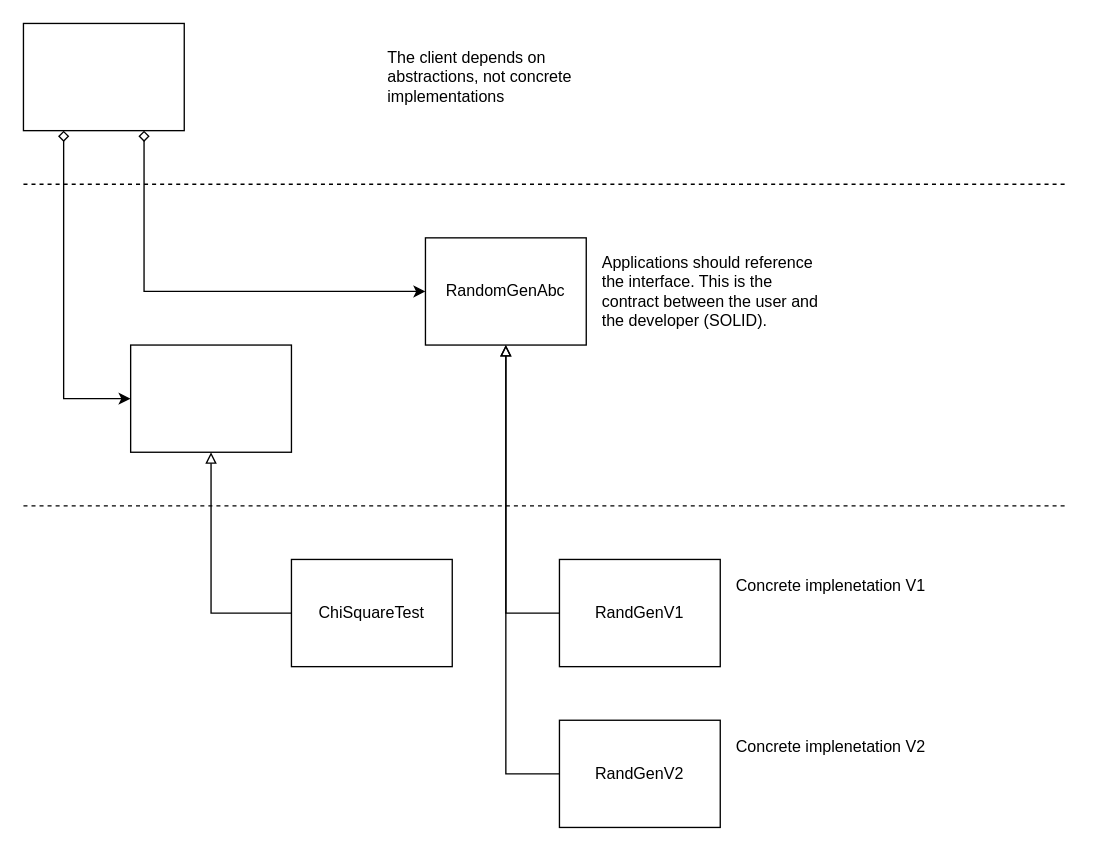
Some shapes in this 1093 by 851 pixel diagram are drawn without their labels. Each missing label, with the centre of its shape:
"ClientApp" goes at point (103, 76).
"HypothesisTestAbc" goes at point (210, 398).
